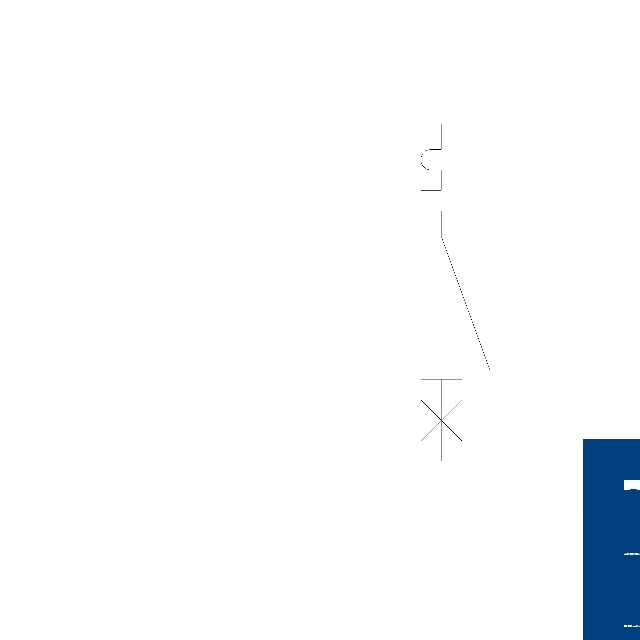interruptor_termomagnetico: (412, 115, 499, 470)
